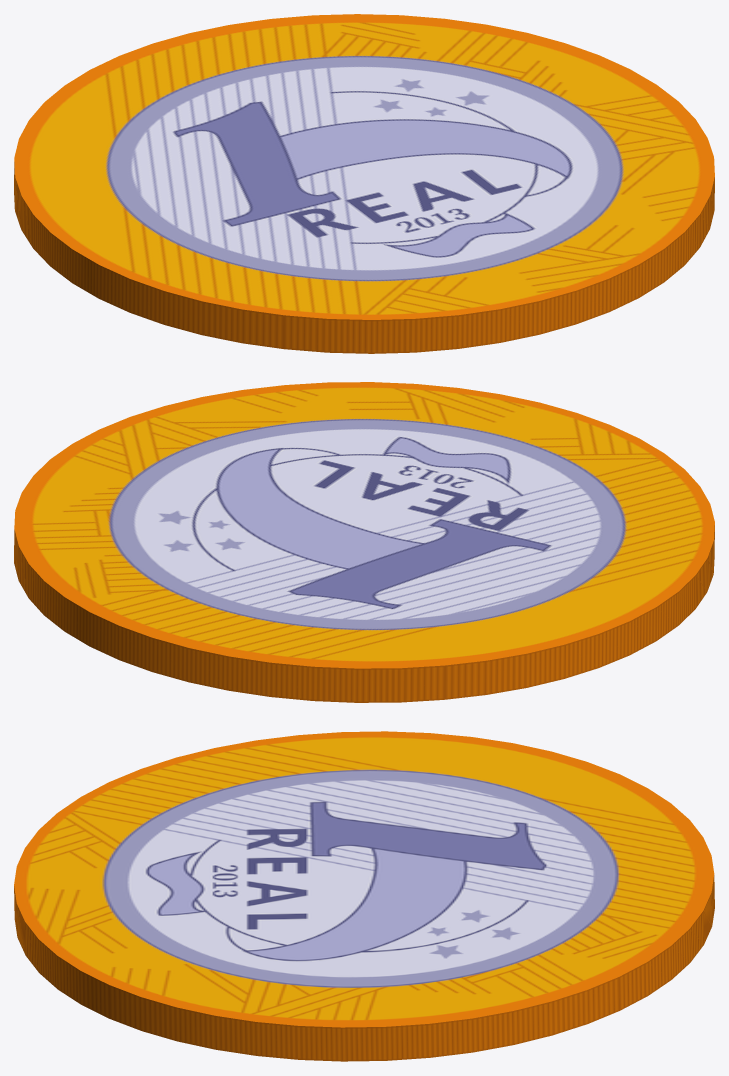
File: Moeda_1.glb
3 renders of one model, top to bottom at view 1: azimuth 30°, elevation 25°; view 2: azimuth 150°, elevation 25°; view 3: azimuth 270°, elevation 25°, orthographic.
Parts seen in each view (by area): view 1: Moeda; view 2: Moeda; view 3: Moeda.
Boxes of the visible parts, x1=… form: Moeda: x1=14, y1=14, x2=714, y2=353; Moeda: x1=14, y1=382, x2=714, y2=702; Moeda: x1=14, y1=731, x2=714, y2=1061.
Bounding box in the file's own units: 2 × 0.1421 × 2.
1 material, 1 textured.
